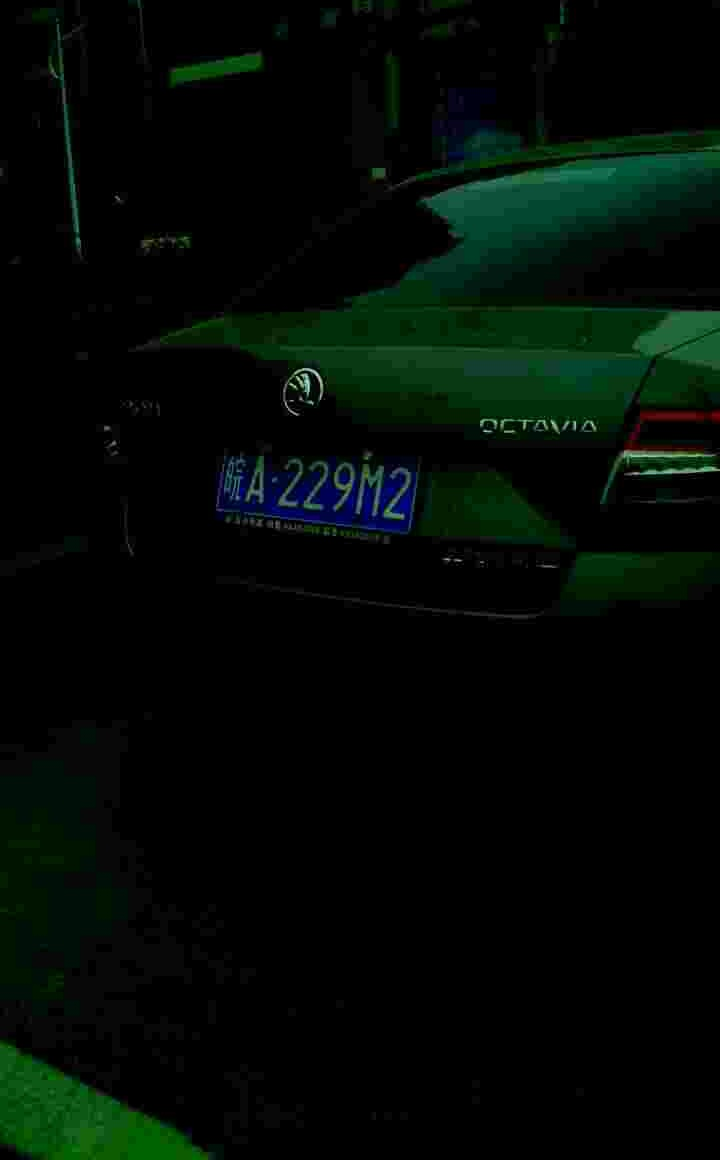plate: (210, 437, 423, 534)
